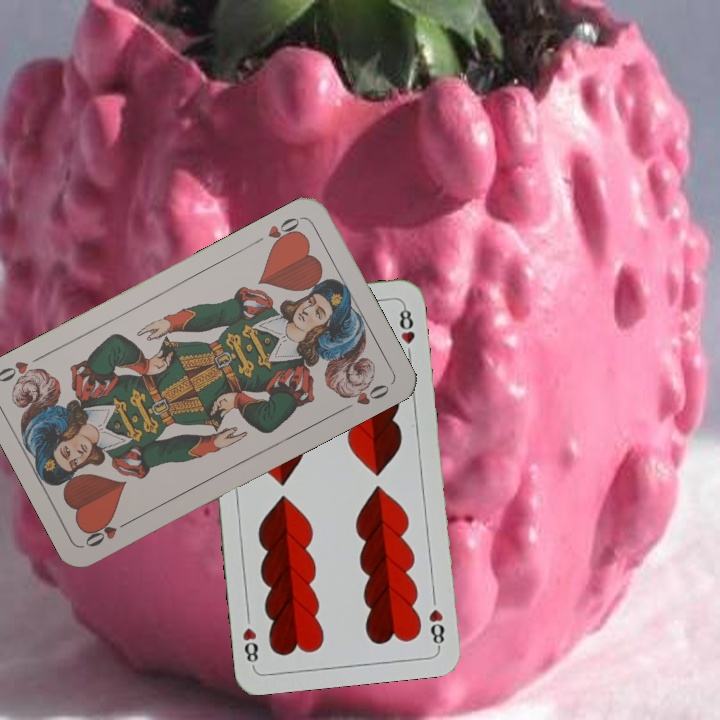H8: (424, 605, 447, 650)
HO: (249, 212, 304, 250), (81, 515, 136, 550)
